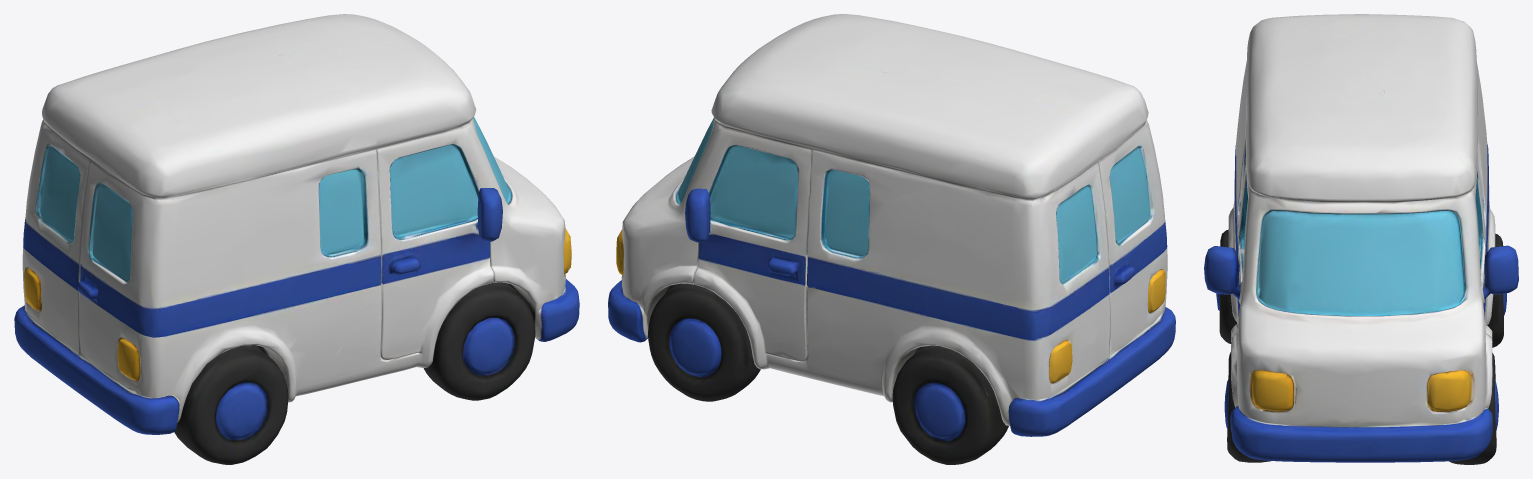
The model's file is van.glb.
The picture shows the model from 3 angles, left to right: view 1: azimuth 30°, elevation 25°; view 2: azimuth 150°, elevation 25°; view 3: azimuth 270°, elevation 25°; orthographic projection. The views are drawn at different scales.
Parts seen in each view (by area): view 1: tripo_node_be325bb6-e6ac-467e-bbda-683f7acd761b; view 2: tripo_node_be325bb6-e6ac-467e-bbda-683f7acd761b; view 3: tripo_node_be325bb6-e6ac-467e-bbda-683f7acd761b.
Part boxes in pixels (x1,y1,x2,y2): tripo_node_be325bb6-e6ac-467e-bbda-683f7acd761b: (14,14,579,464); tripo_node_be325bb6-e6ac-467e-bbda-683f7acd761b: (608,14,1175,464); tripo_node_be325bb6-e6ac-467e-bbda-683f7acd761b: (1204,14,1518,464).
Size of the model in its own units: 0.9802 by 0.6517 by 0.6059.
Materials: 1 (1 with a texture image).
